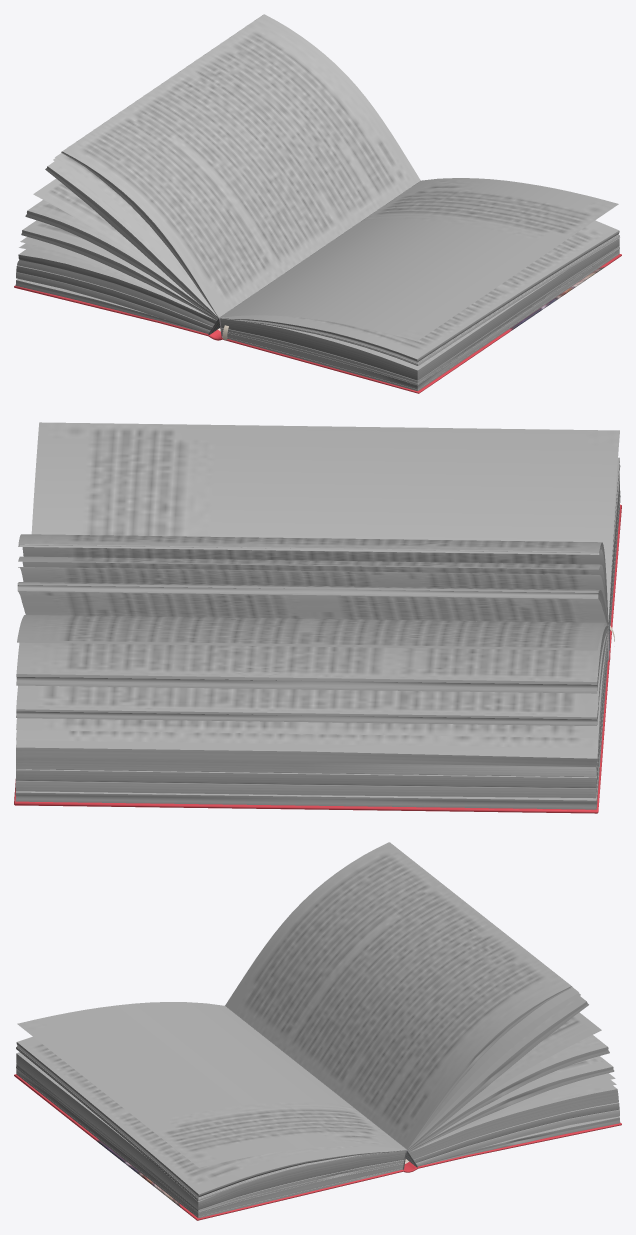
Rendered from ETC31.glb.
3 views of the same model, one above another, from view 1: azimuth 30°, elevation 25°; view 2: azimuth 150°, elevation 25°; view 3: azimuth 270°, elevation 25° (orthographic). The views are drawn at different scales.
Visible parts, largest first — view 1: BP_ETC31; view 2: BP_ETC31; view 3: BP_ETC31.
Boxes of the visible parts, x1=… form: BP_ETC31: x1=14, y1=14, x2=621, y2=393; BP_ETC31: x1=14, y1=422, x2=621, y2=813; BP_ETC31: x1=14, y1=842, x2=621, y2=1220.
Size of the model in its own units: 0.3289 by 0.0957 by 0.3511.
3 materials, 3 textured.
